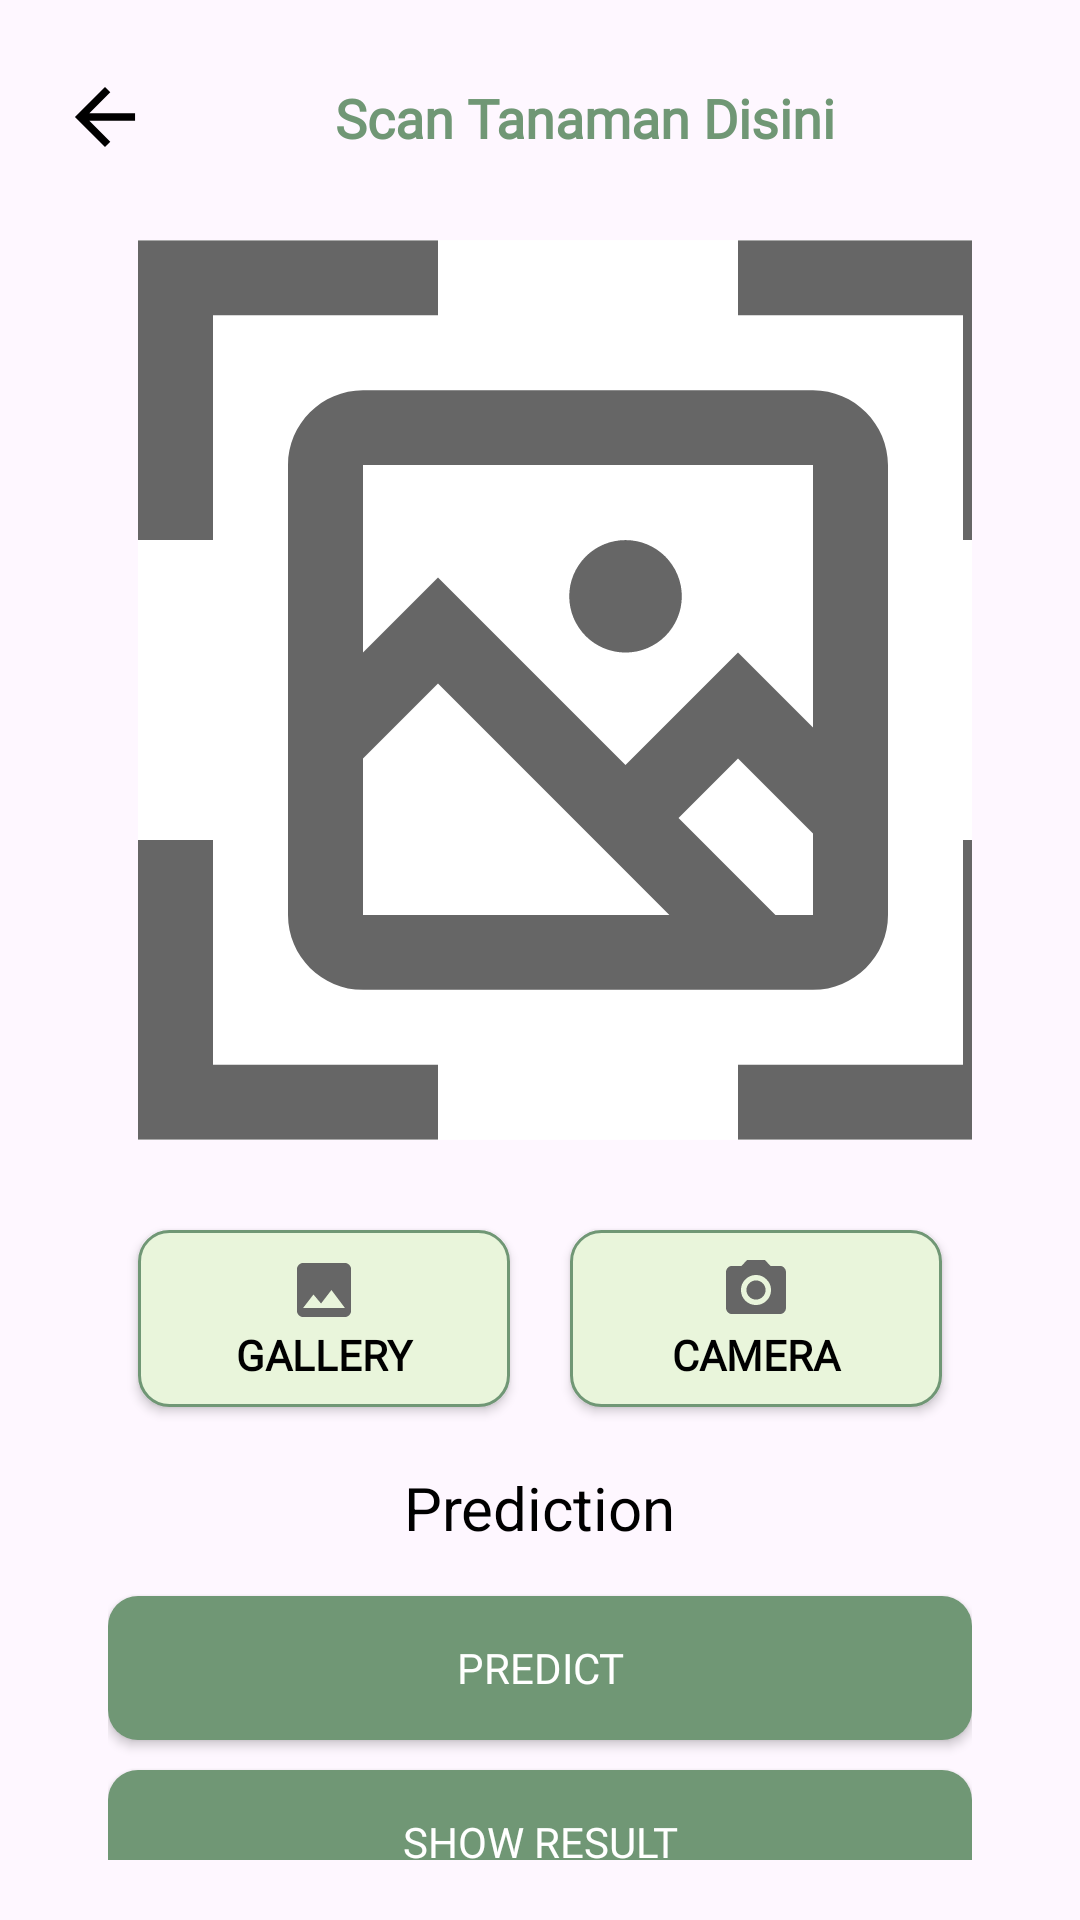

Icons on this 1080px×1920px Android screen, each with the point to tap as (x,y):
Kembali: (105,117)
